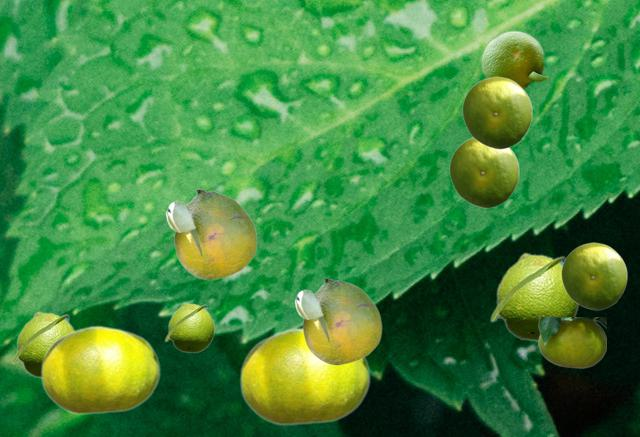dalandan: (239, 327, 369, 425), (40, 325, 159, 414), (165, 190, 256, 279), (489, 252, 579, 341), (294, 279, 381, 364), (462, 76, 531, 148), (449, 137, 518, 207), (561, 242, 626, 309), (11, 311, 74, 378), (480, 29, 548, 89), (538, 317, 605, 367), (164, 302, 214, 352)
